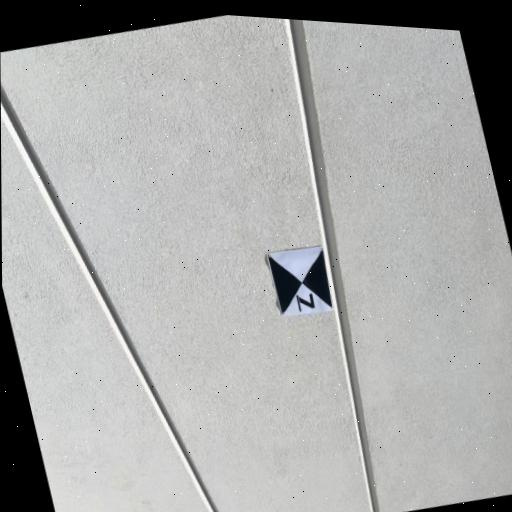target7: (265, 240, 335, 322)
